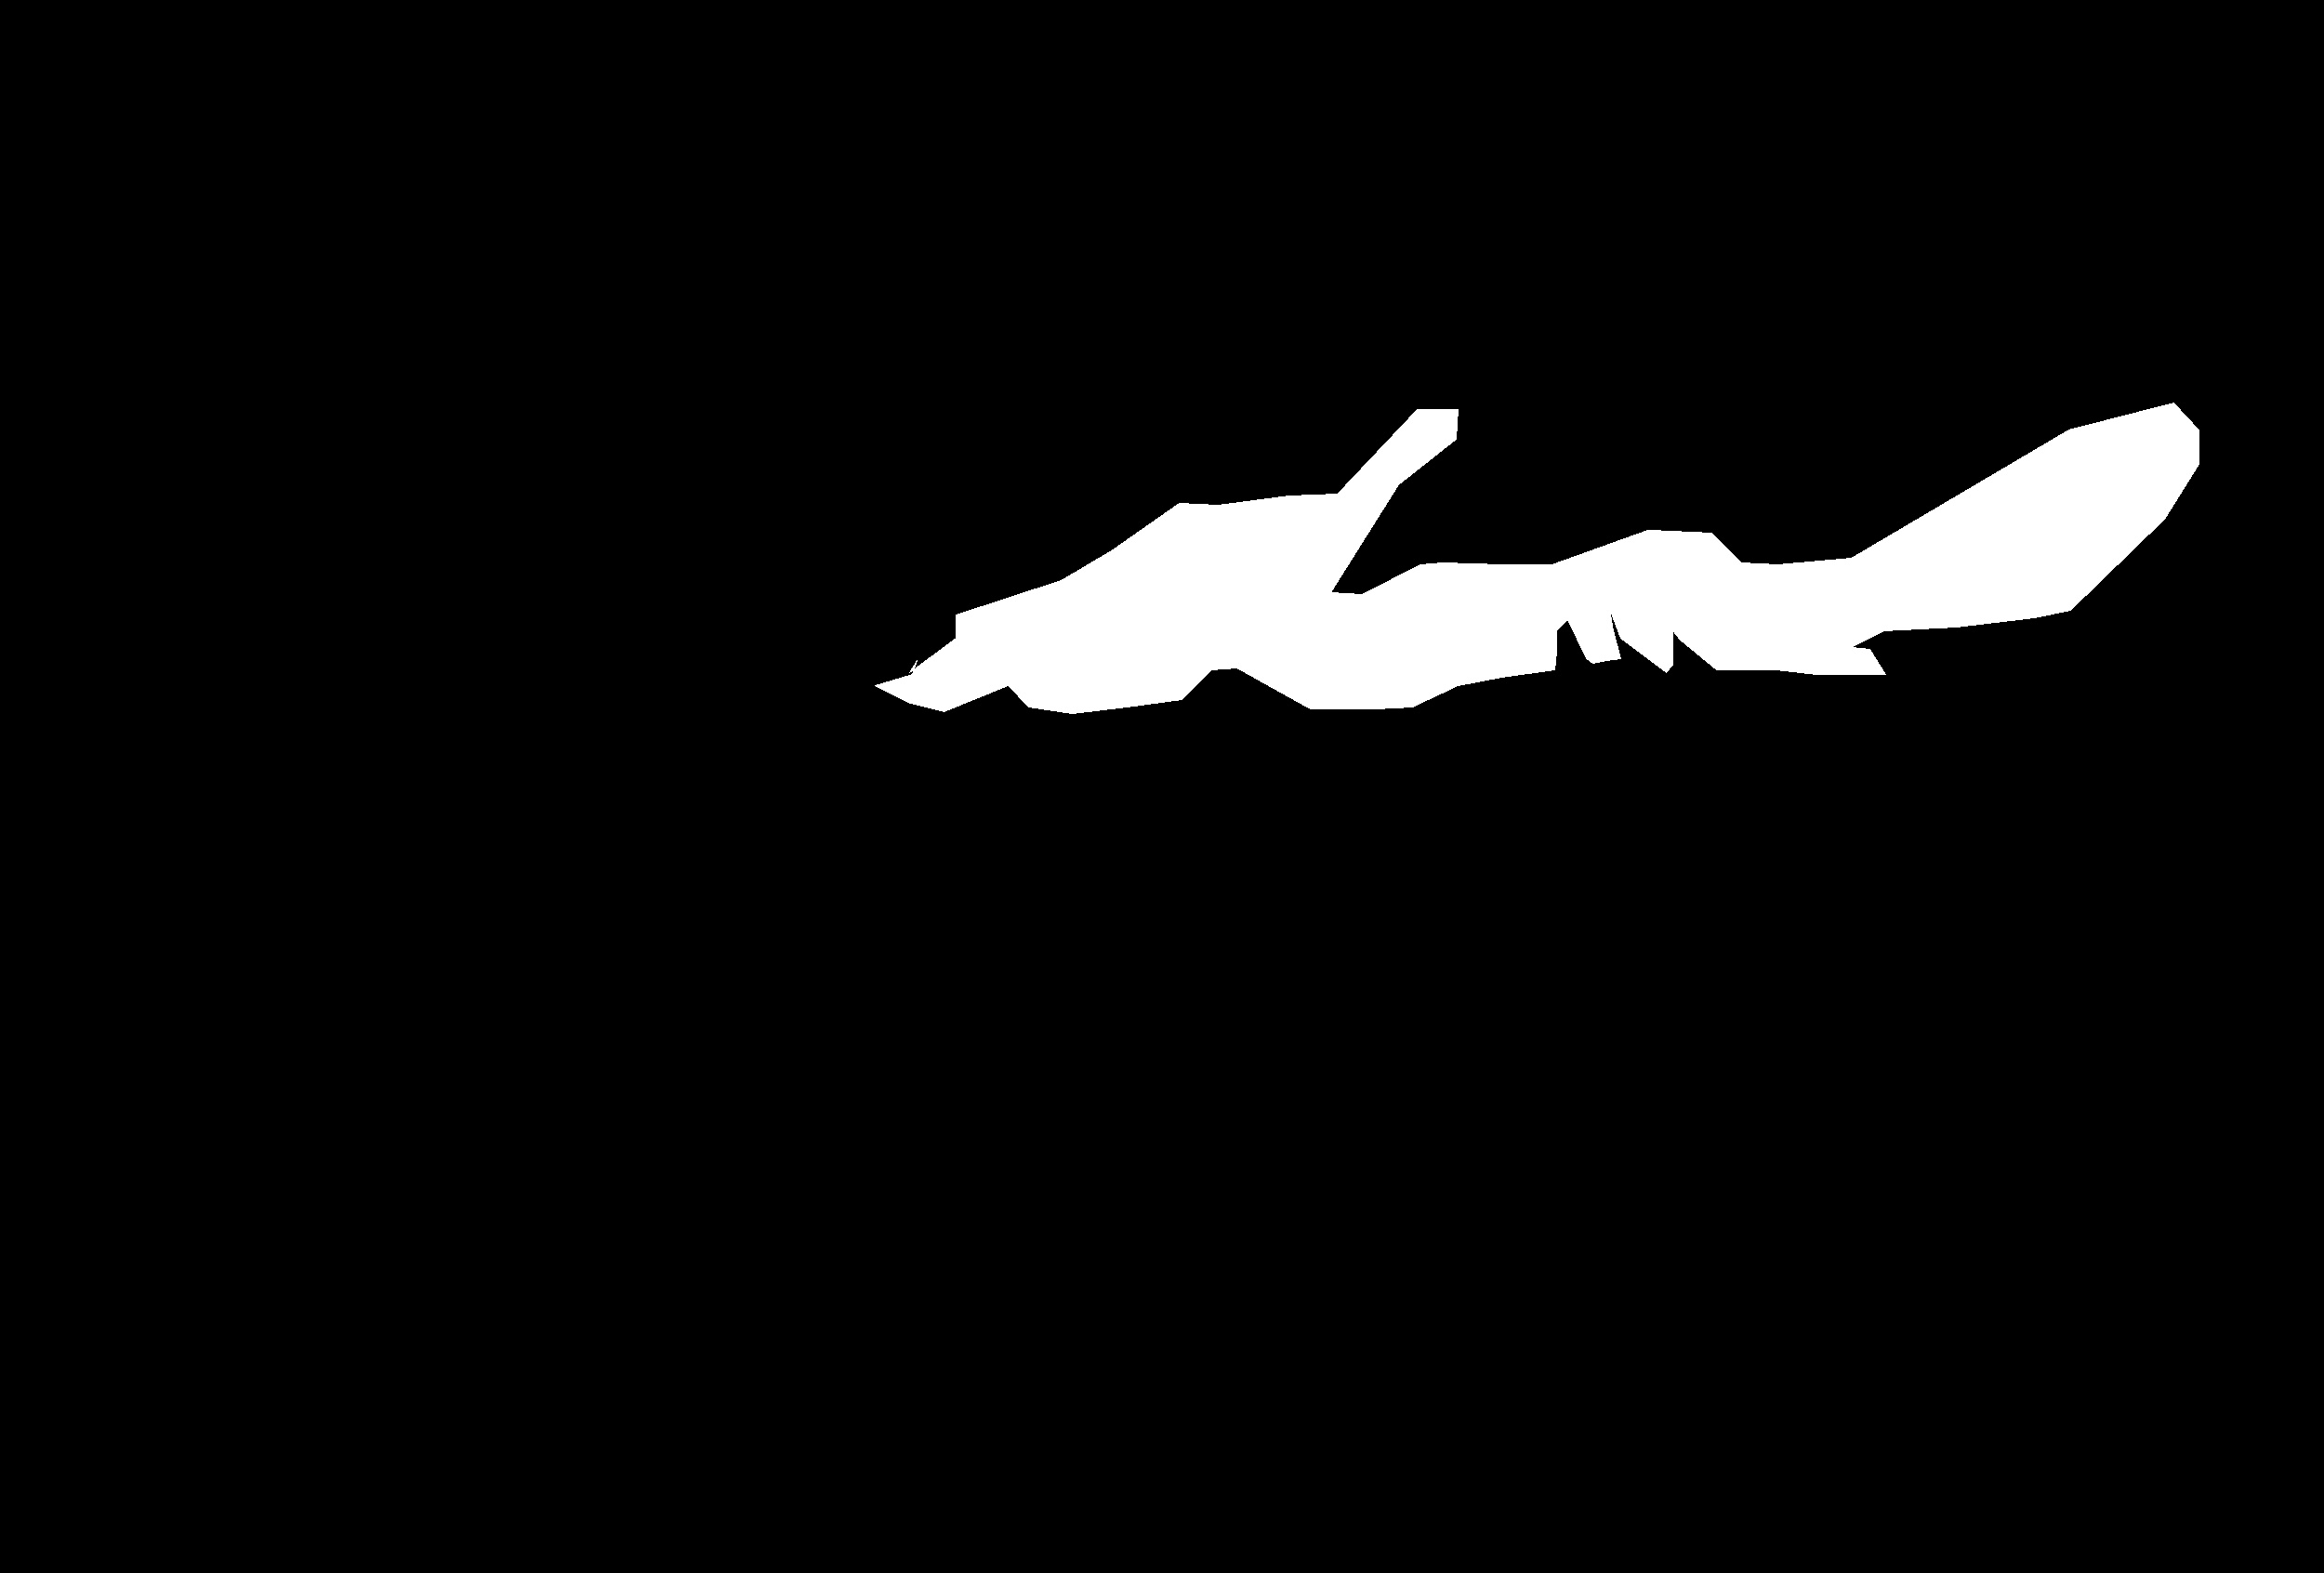Fire: (885, 458, 1920, 779)
